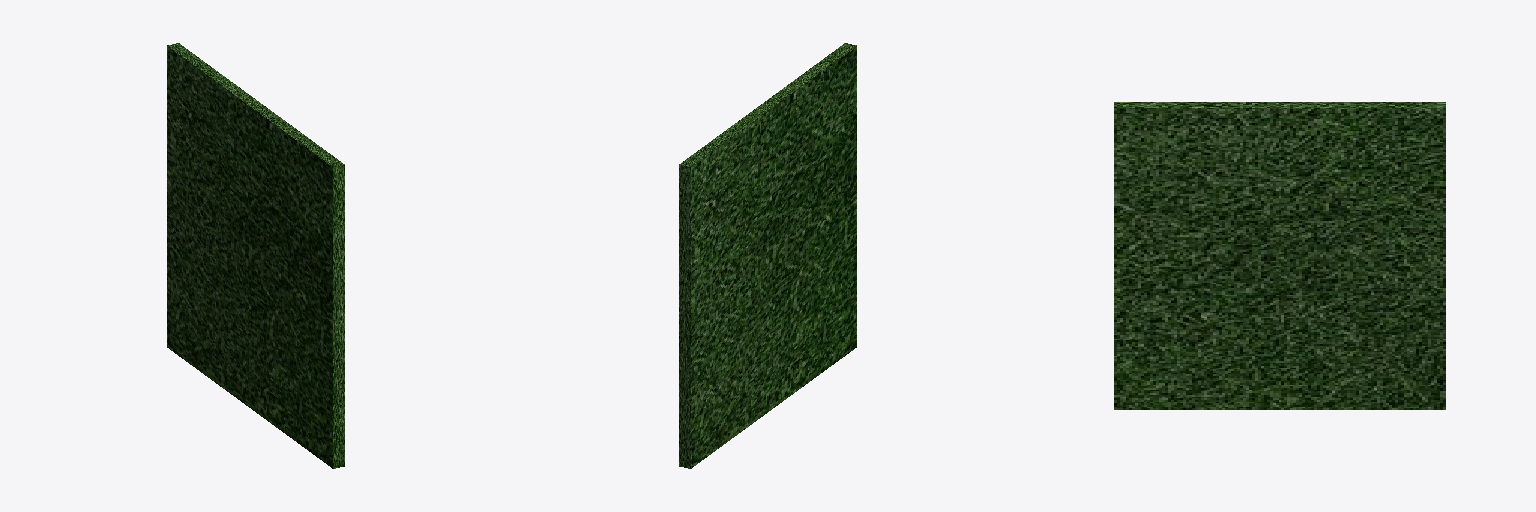
3 renders of one model, left to right at view 1: azimuth 30°, elevation 25°; view 2: azimuth 150°, elevation 25°; view 3: azimuth 270°, elevation 25°, orthographic.
Visible parts, largest first — view 1: PC258_Cube.261; view 2: PC258_Cube.261; view 3: PC258_Cube.261.
Part boxes in pixels (x1,y1,x2,y2): PC258_Cube.261: (167,43,344,468); PC258_Cube.261: (679,43,856,468); PC258_Cube.261: (1114,102,1445,409).
Size of the model in its own units: 0.4 by 10 by 10.
1 materials, 1 textured.